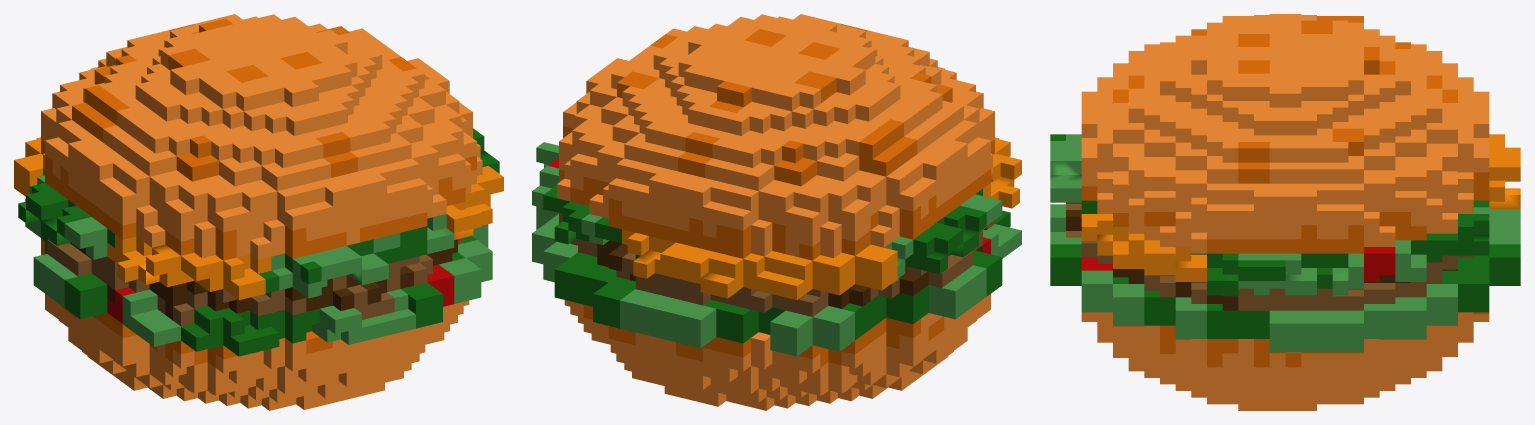
File: hamburger.fbx
3 renders of one model, left to right at view 1: azimuth 30°, elevation 25°; view 2: azimuth 150°, elevation 25°; view 3: azimuth 270°, elevation 25°, orthographic.
Parts seen in each view (by area): view 1: hamburger; view 2: hamburger; view 3: hamburger.
Part boxes in pixels (x1=…): hamburger: x1=14, y1=14, x2=503, y2=410; hamburger: x1=532, y1=14, x2=1021, y2=410; hamburger: x1=1050, y1=14, x2=1520, y2=410.
Size of the model in its own units: 24.18 by 16.12 by 24.18.
Materials: 2 (2 with a texture image).
